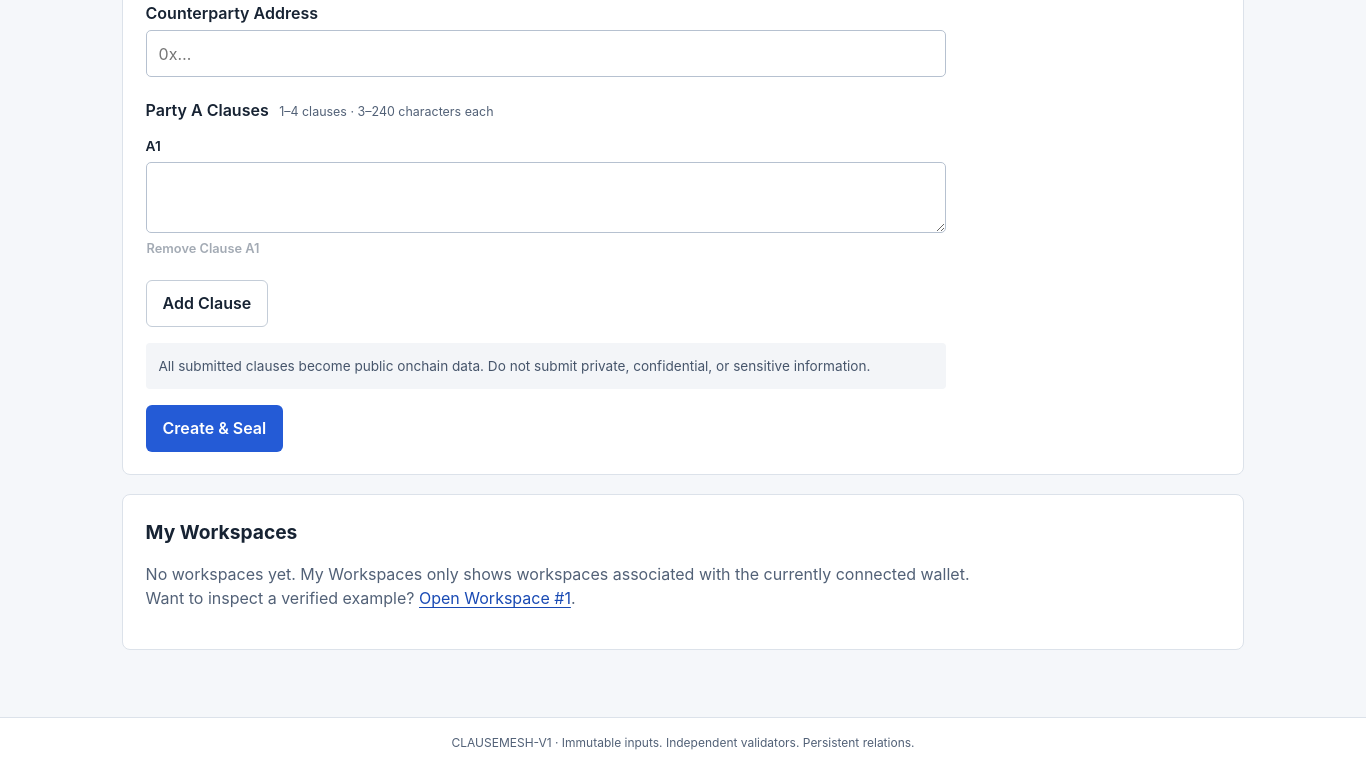
Test: F03/F04/F05 Create and frozen permissions › validates form then creates/seals once and navigates to receipt ID
(page scrolled)
Click the button "Create & Seal" at [214, 428], box top-left (146, 405), bottom-right (283, 452)
(page scrolled)
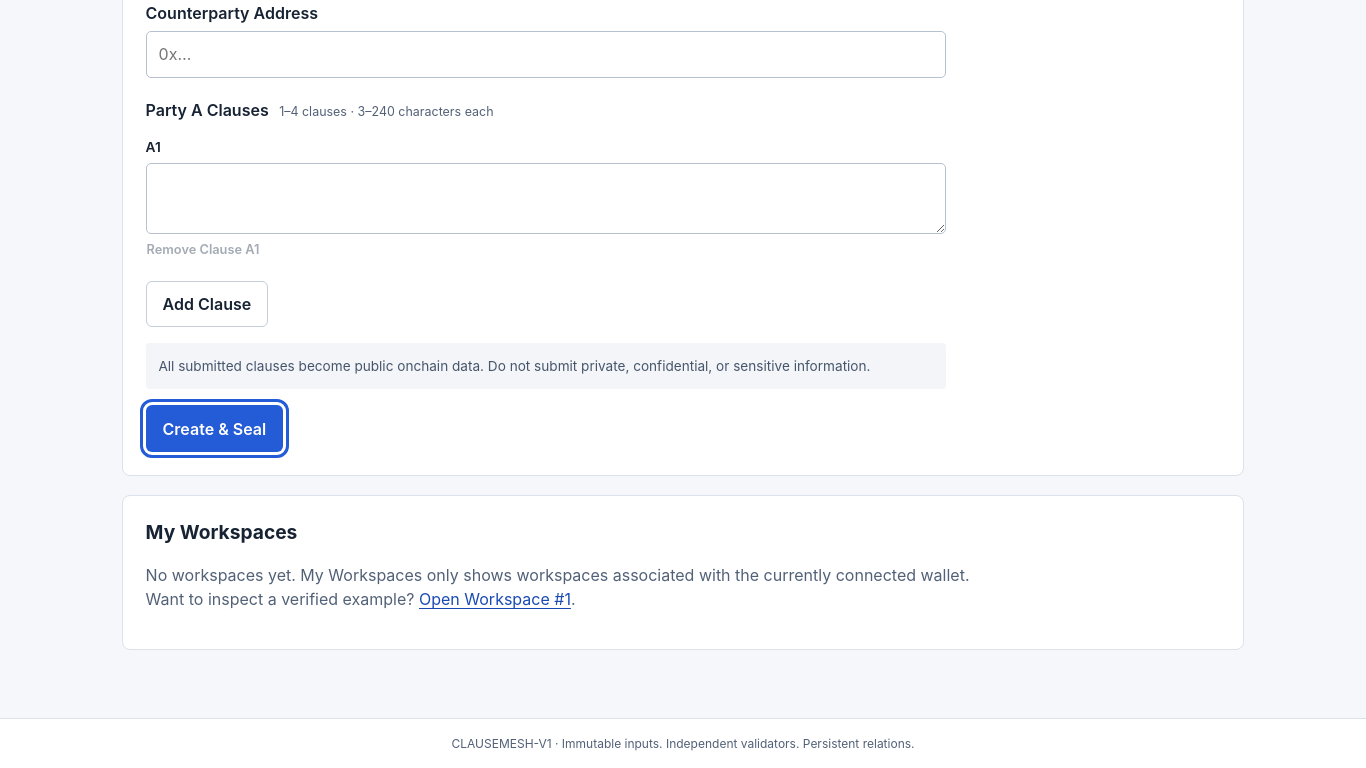
Type "0x2222222222222222222222222222222222222222" into the field labelled "Counterparty Address" at [546, 54], box top-left (146, 31), bottom-right (946, 78)
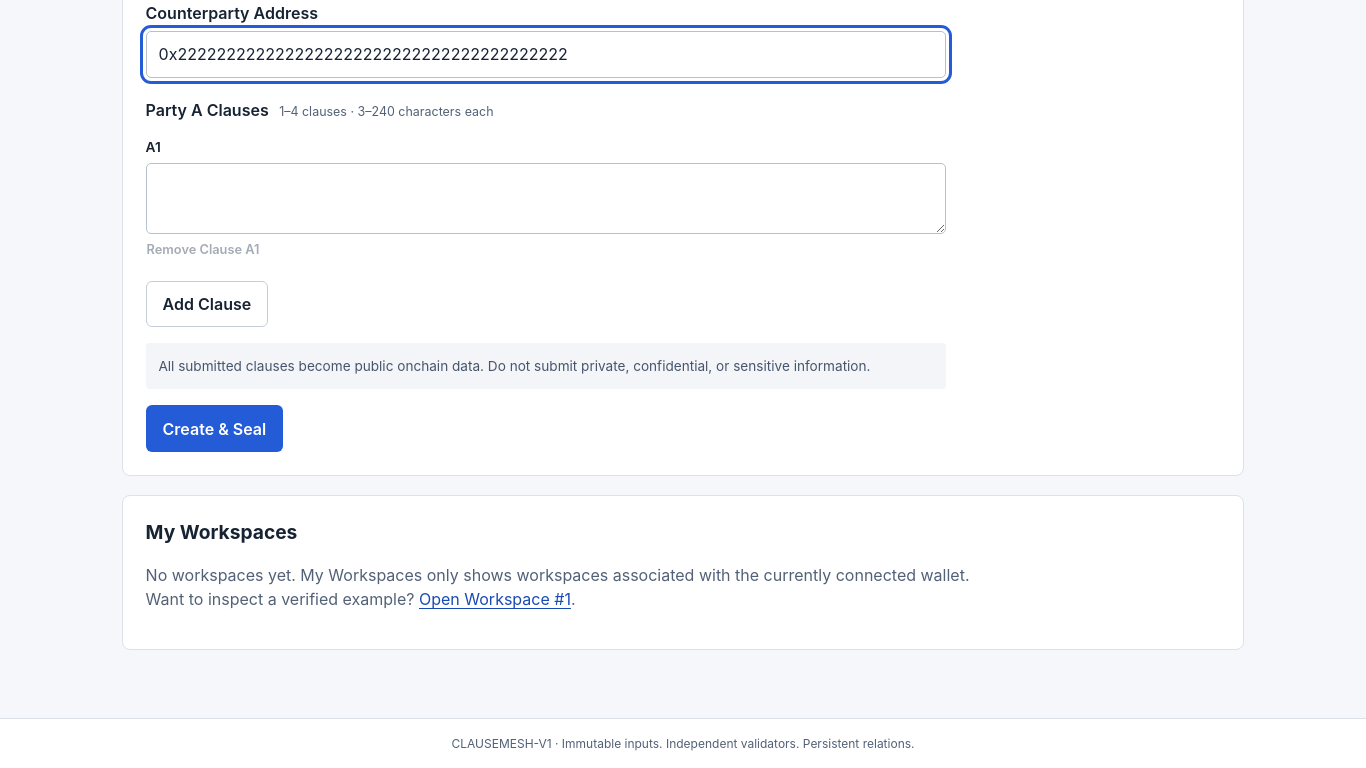
Type "Monthly invoices are required." into the text box labelled "A1" at [546, 198], box top-left (146, 163), bottom-right (946, 234)
(page scrolled)
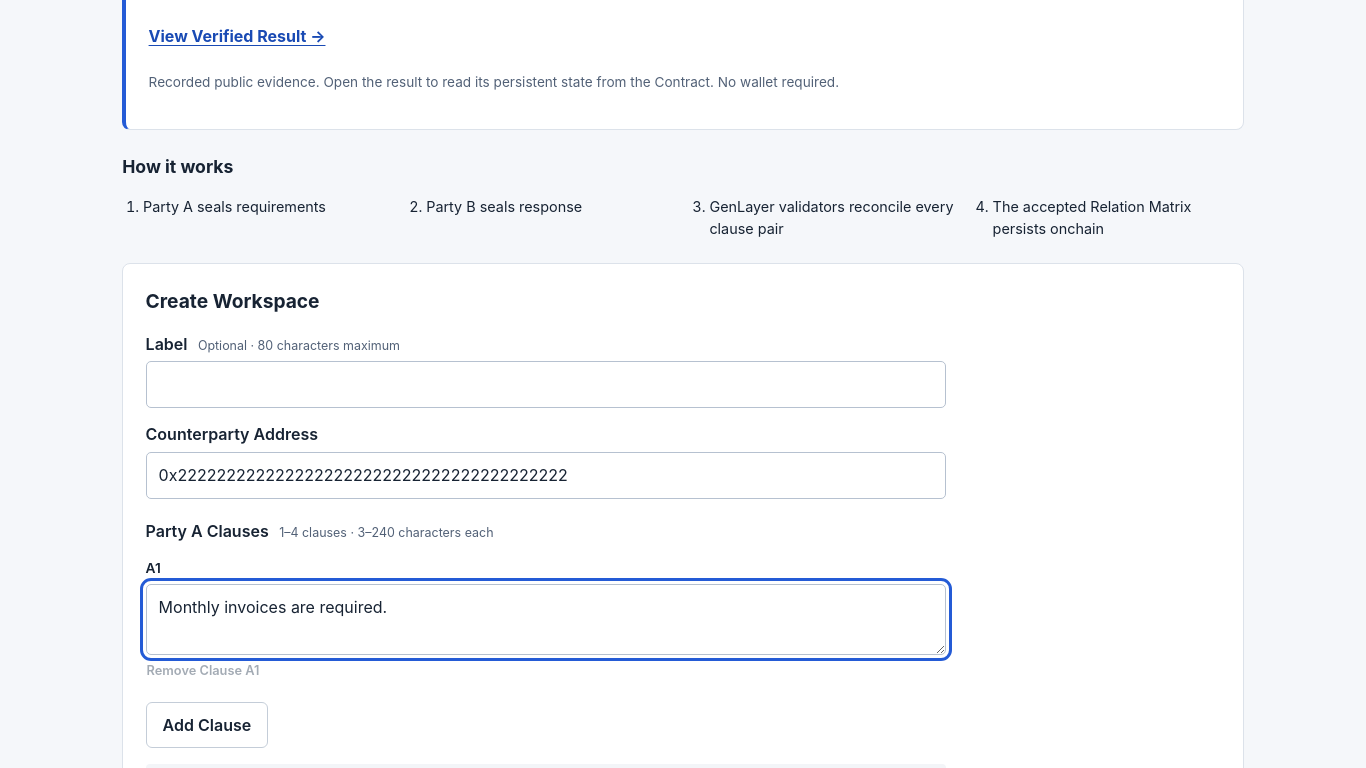
Type "  Delivery  " into the field labelled "Label Optional · 80 characters maximum" at [546, 384], box top-left (146, 361), bottom-right (946, 408)
(page scrolled)
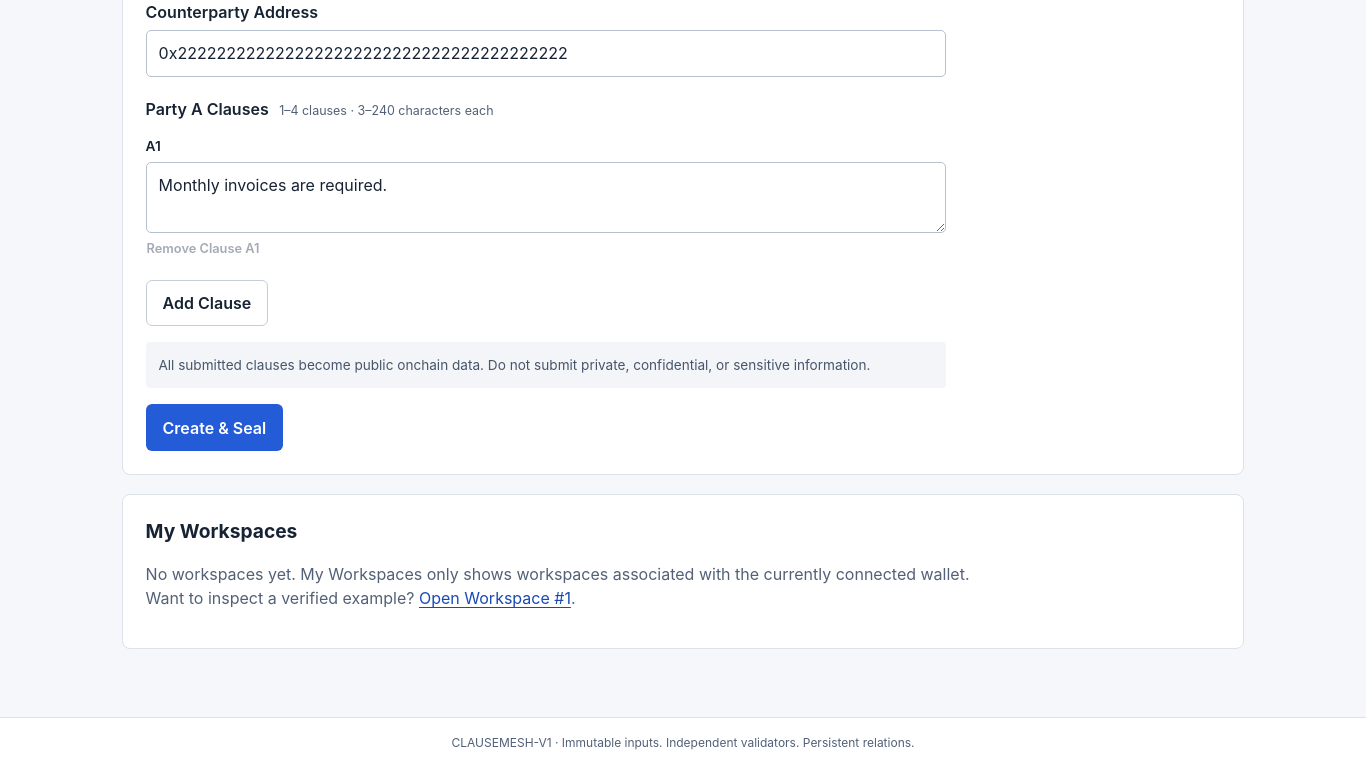
Click the button "Create & Seal" at [214, 428], box top-left (146, 404), bottom-right (283, 451)
(page scrolled)
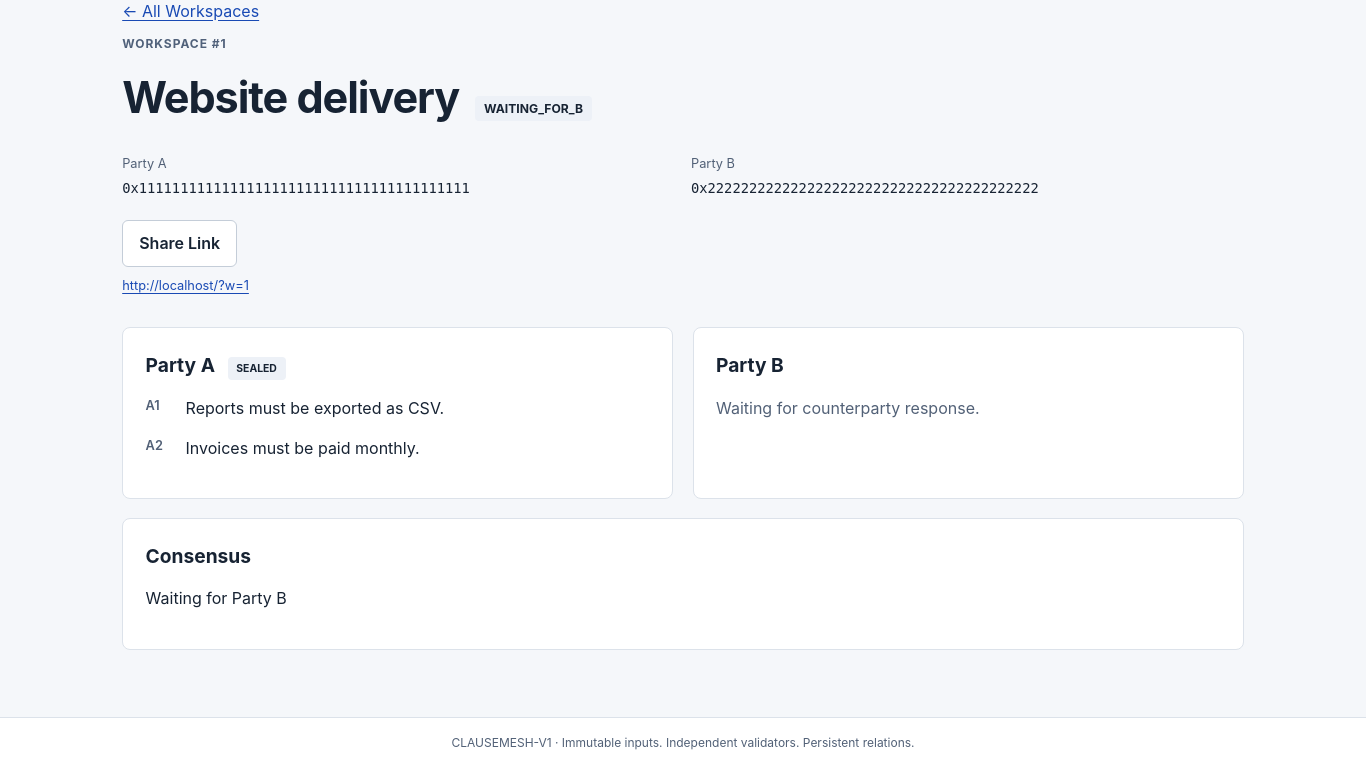
Now the heading "Party A SEALED" is shown, box top-left (146, 353), bottom-right (286, 380)
